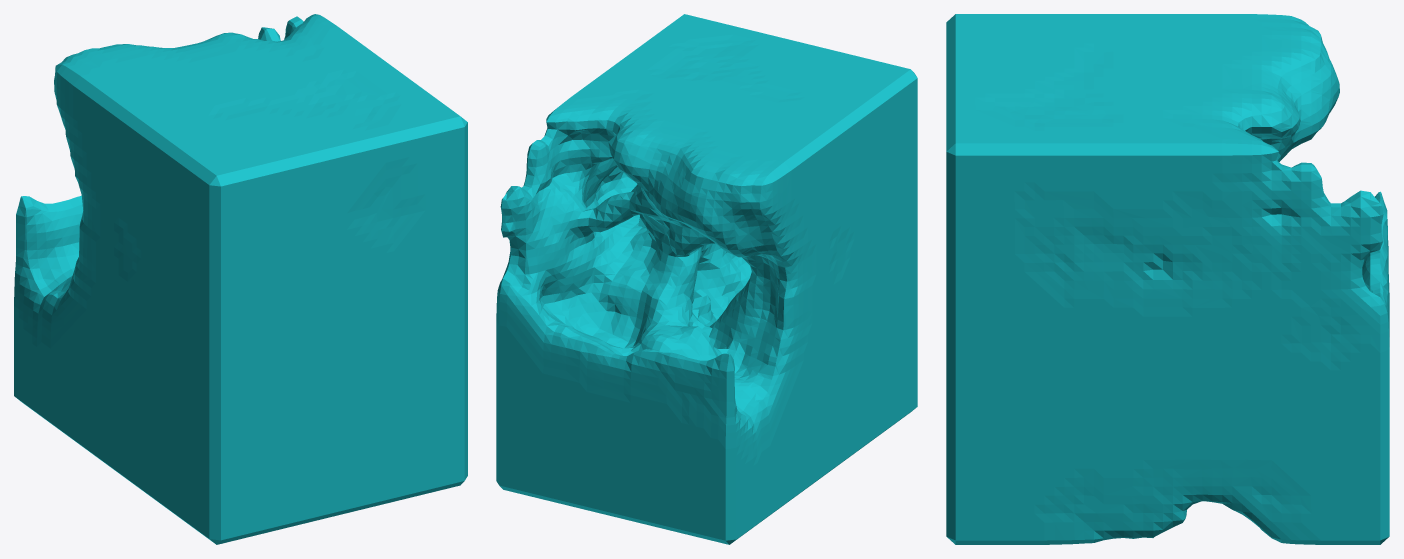
3 views of the same model, side by side, from view 1: azimuth 30°, elevation 25°; view 2: azimuth 150°, elevation 25°; view 3: azimuth 270°, elevation 25° (orthographic). The views are drawn at different scales.
Parts seen in each view (by area): view 1: Liquid_Domain; view 2: Liquid_Domain; view 3: Liquid_Domain.
Boxes of the visible parts, x1,y1,x2,y2 form: Liquid_Domain: [14, 14, 467, 544]; Liquid_Domain: [496, 14, 917, 544]; Liquid_Domain: [946, 14, 1389, 544].
Size of the model in its own units: 79.09 by 108 by 108.
